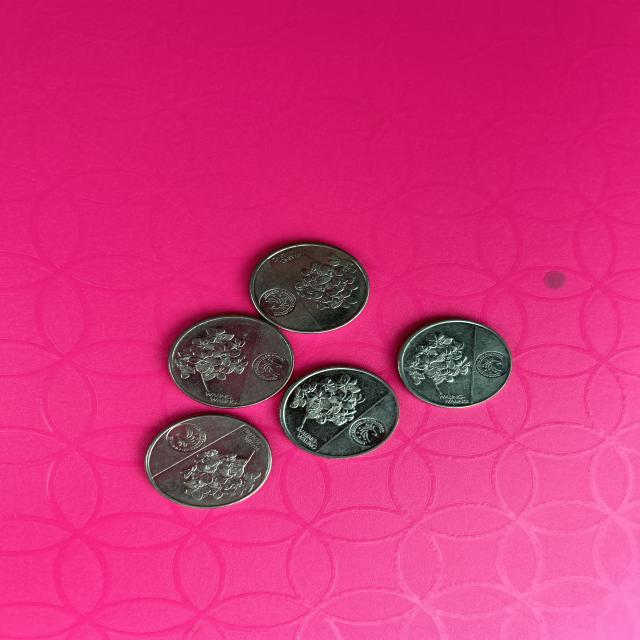1_New_Back: (398, 327, 467, 398), (181, 440, 261, 500), (292, 255, 369, 308), (185, 324, 248, 377), (303, 376, 370, 424)
